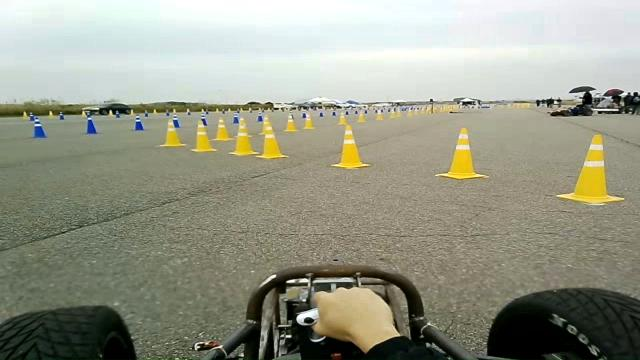blue cone: (33, 124, 47, 138), (85, 118, 98, 133), (134, 120, 144, 130)
yellow cone: (556, 134, 624, 204), (434, 126, 488, 180), (330, 124, 370, 169), (255, 116, 289, 159), (229, 118, 259, 156), (159, 118, 186, 147), (191, 122, 217, 152)
